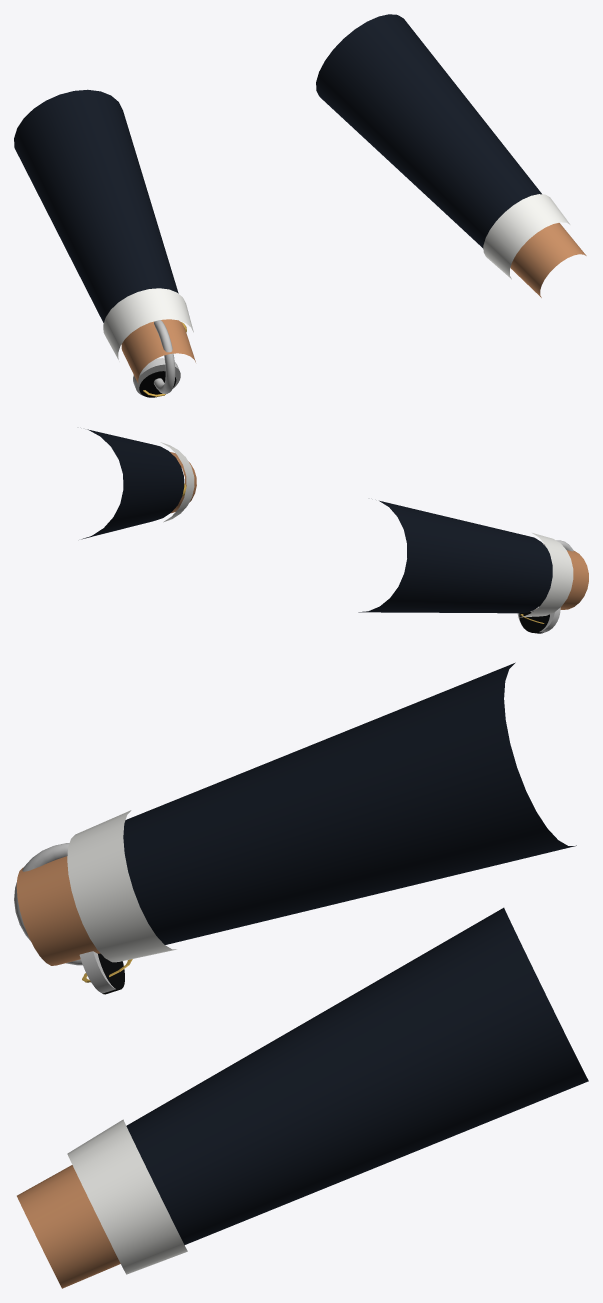
The model's file is free_boss_suit_sleeves_watch_overlay.glb.
The picture shows the model from 3 angles, top to bottom: view 1: azimuth 30°, elevation 25°; view 2: azimuth 150°, elevation 25°; view 3: azimuth 270°, elevation 25°; orthographic projection. The views are drawn at different scales.
Visible parts, largest first — view 1: tapered_jacket_sleeve (×2), white_shirt_cuff (×2), wrist_skin_transition (×2), metal_watch_bracelet, luxury_watch_case_no_logo; view 2: tapered_jacket_sleeve (×2), white_shirt_cuff (×2), wrist_skin_transition, black_analog_watch_dial; view 3: tapered_jacket_sleeve (×2), white_shirt_cuff (×2), wrist_skin_transition (×2), metal_watch_bracelet.
Part boxes in pixels (x1=…): tapered_jacket_sleeve (×2): x1=14, y1=14, x2=541, y2=322; white_shirt_cuff (×2): x1=103, y1=194, x2=570, y2=361; wrist_skin_transition (×2): x1=121, y1=223, x2=586, y2=383; metal_watch_bracelet: x1=154, y1=320, x2=175, y2=393; luxury_watch_case_no_logo: x1=133, y1=358, x2=180, y2=395; tapered_jacket_sleeve (×2): x1=81, y1=429, x2=552, y2=613; white_shirt_cuff (×2): x1=160, y1=442, x2=573, y2=617; wrist_skin_transition: x1=536, y1=543, x2=588, y2=609; black_analog_watch_dial: x1=519, y1=605, x2=549, y2=633; tapered_jacket_sleeve (×2): x1=123, y1=662, x2=588, y2=1244; white_shirt_cuff (×2): x1=67, y1=810, x2=187, y2=1274; wrist_skin_transition (×2): x1=16, y1=856, x2=120, y2=1288; metal_watch_bracelet: x1=14, y1=843, x2=82, y2=965.
Bounding box in the file's own units: 1.41 × 0.6248 × 0.9218.
